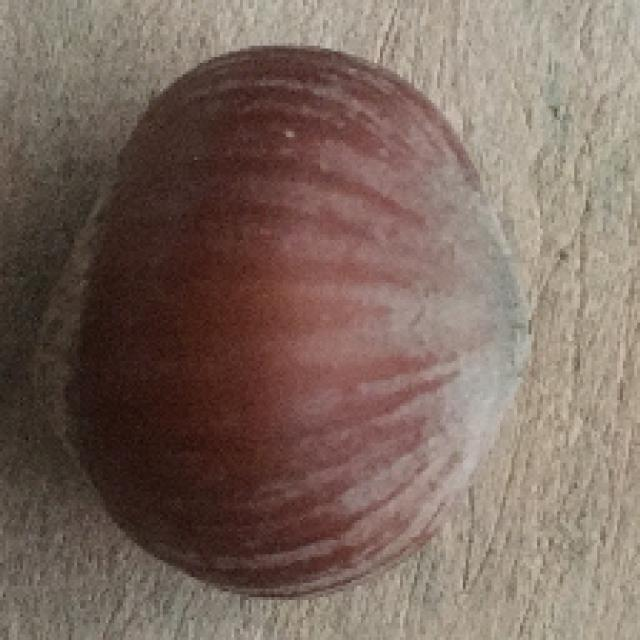QualityHazelnut: (28, 44, 527, 602)
